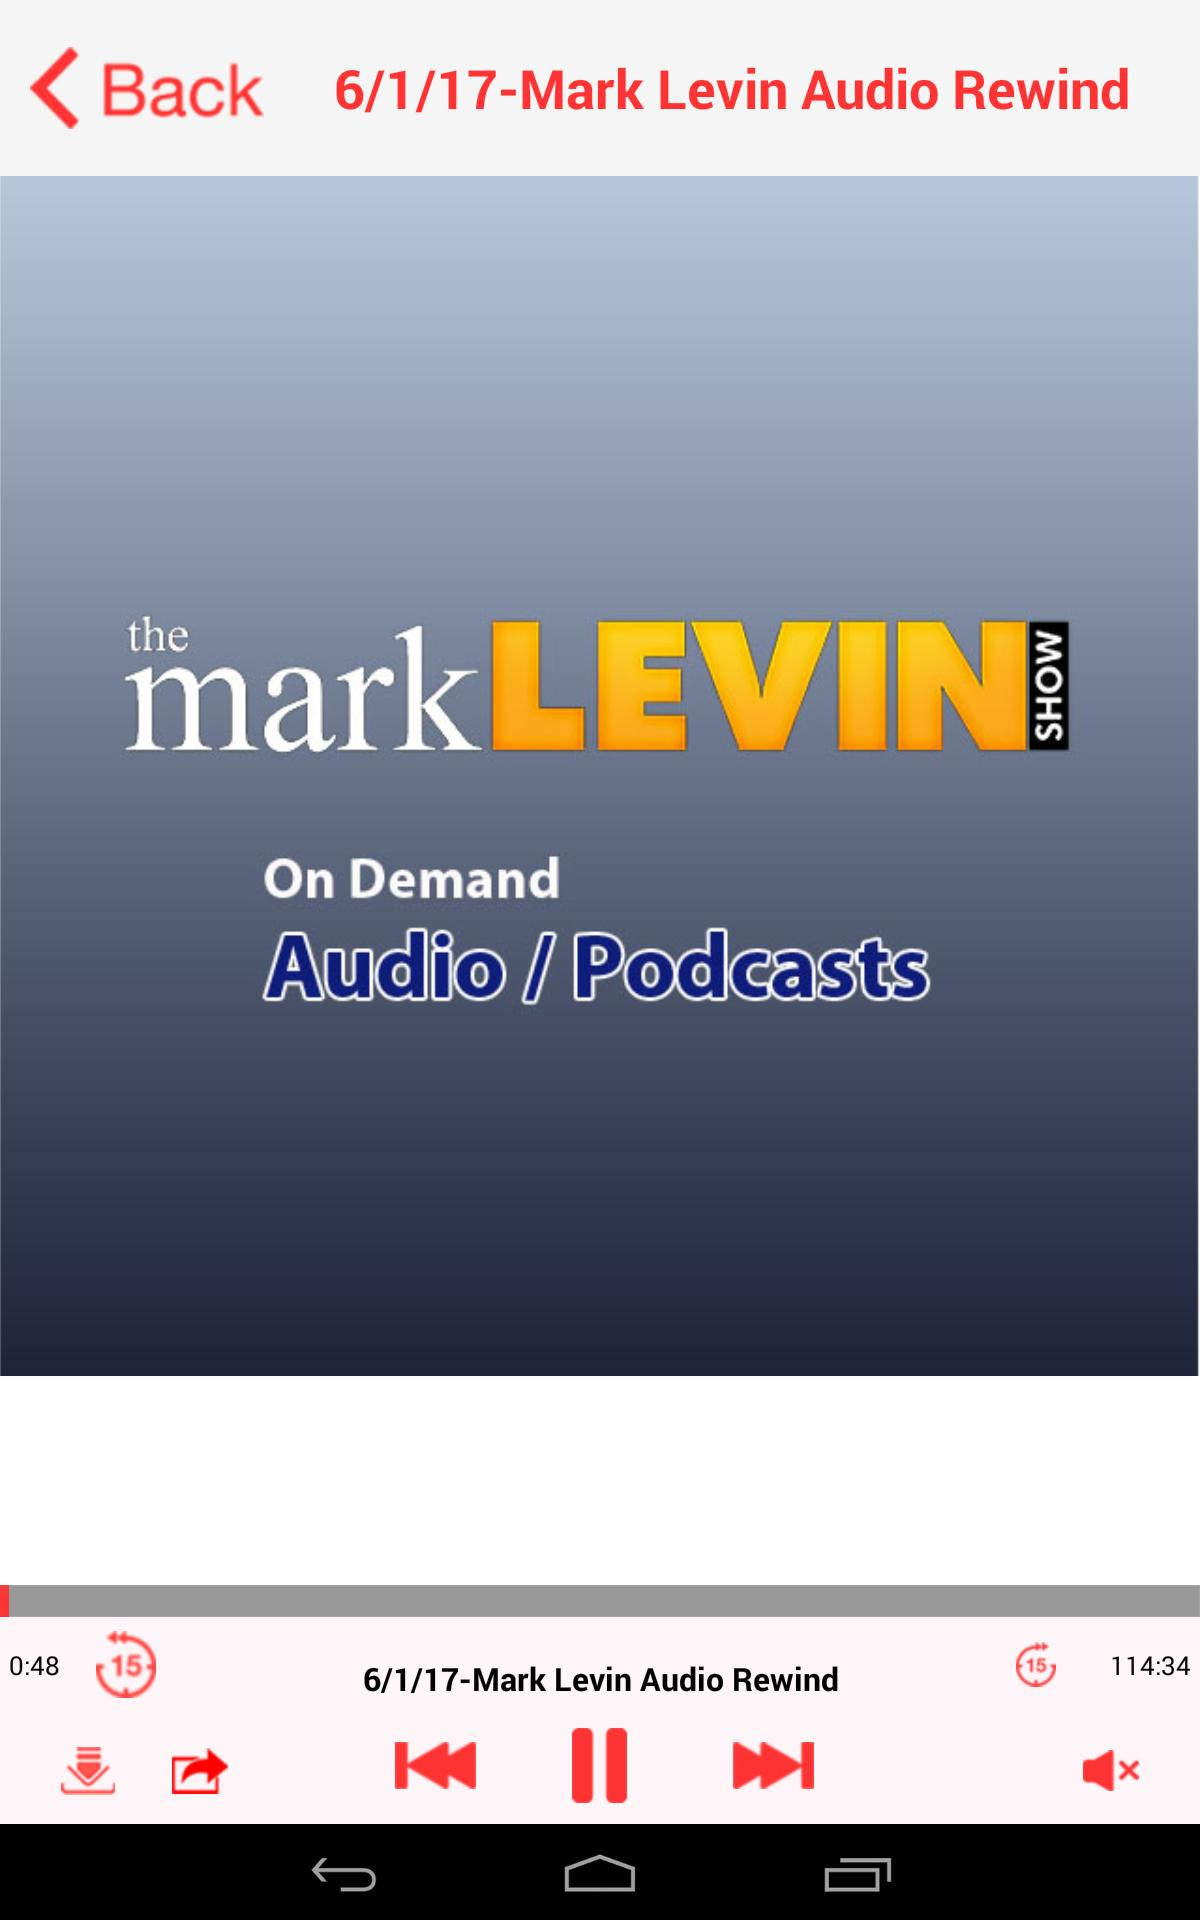android.widget.Button: (30, 47, 264, 129)
android.widget.FrameLayout: (0, 0, 1200, 1825), (0, 0, 274, 151)
android.widget.ImageView: (0, 176, 1200, 1585), (549, 1728, 650, 1803), (71, 1631, 182, 1697), (733, 1728, 814, 1803), (395, 1728, 476, 1803), (1082, 1747, 1139, 1796), (59, 1747, 116, 1796), (171, 1747, 228, 1796), (1016, 1631, 1056, 1697)
android.widget.LinearLayout: (0, 0, 1200, 1825)
android.widget.RelativeLayout: (0, 0, 1200, 1825), (0, 176, 1200, 1825), (0, 1585, 1200, 1825), (0, 0, 1200, 176), (0, 1617, 1200, 1713), (0, 1621, 1200, 1709), (0, 1728, 1200, 1814), (0, 1728, 1172, 1814), (259, 1601, 941, 1704), (0, 1585, 1200, 1617), (28, 1728, 252, 1814), (0, 1621, 182, 1709), (1060, 1728, 1163, 1814), (37, 1728, 140, 1814), (149, 1728, 252, 1814), (384, 1728, 487, 1803), (549, 1728, 650, 1803), (713, 1728, 814, 1803), (980, 1631, 1092, 1697), (71, 1631, 182, 1697), (1110, 1621, 1190, 1709), (10, 1621, 59, 1709)
android.widget.SeekBar: (0, 1585, 1200, 1617)
android.widget.TextView: (294, 51, 1170, 124), (259, 1601, 941, 1666), (259, 1657, 941, 1704), (1110, 1648, 1190, 1684), (10, 1648, 59, 1684)
